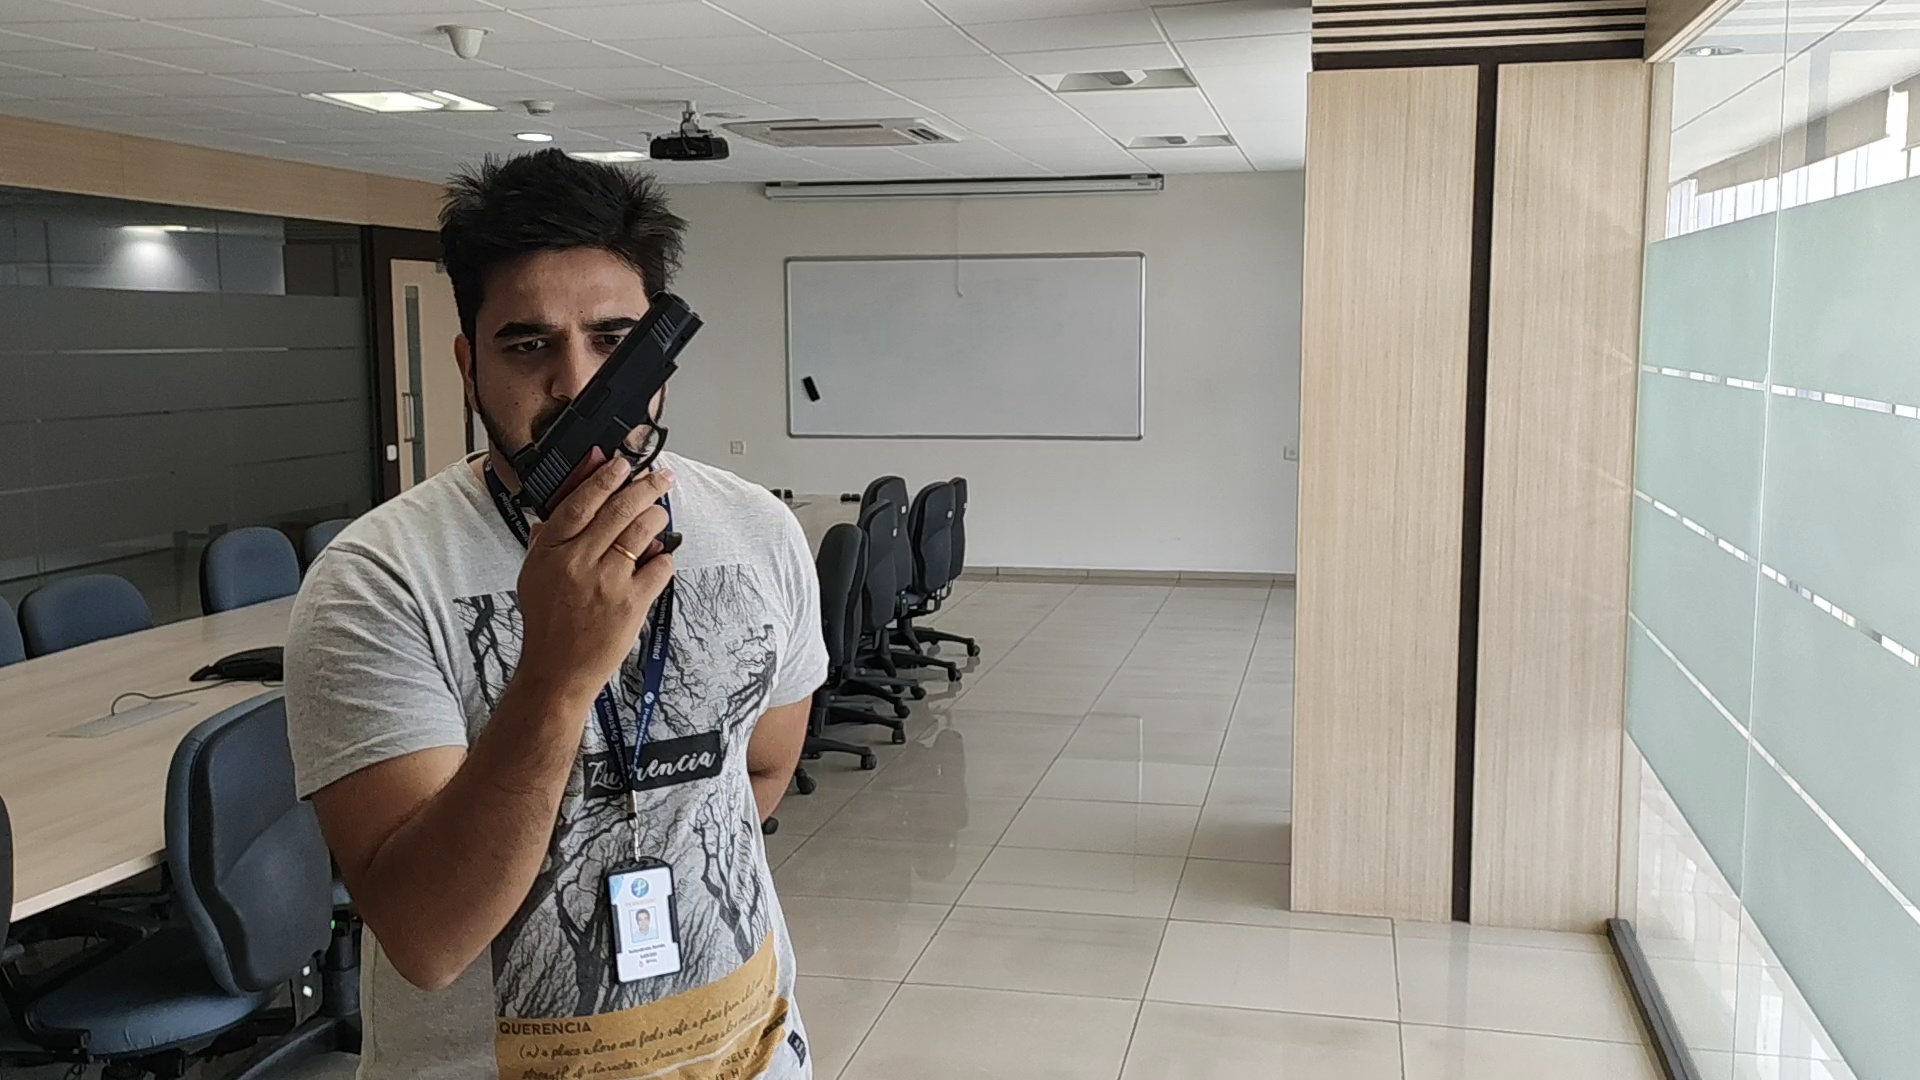gun: (512, 293, 704, 458)
